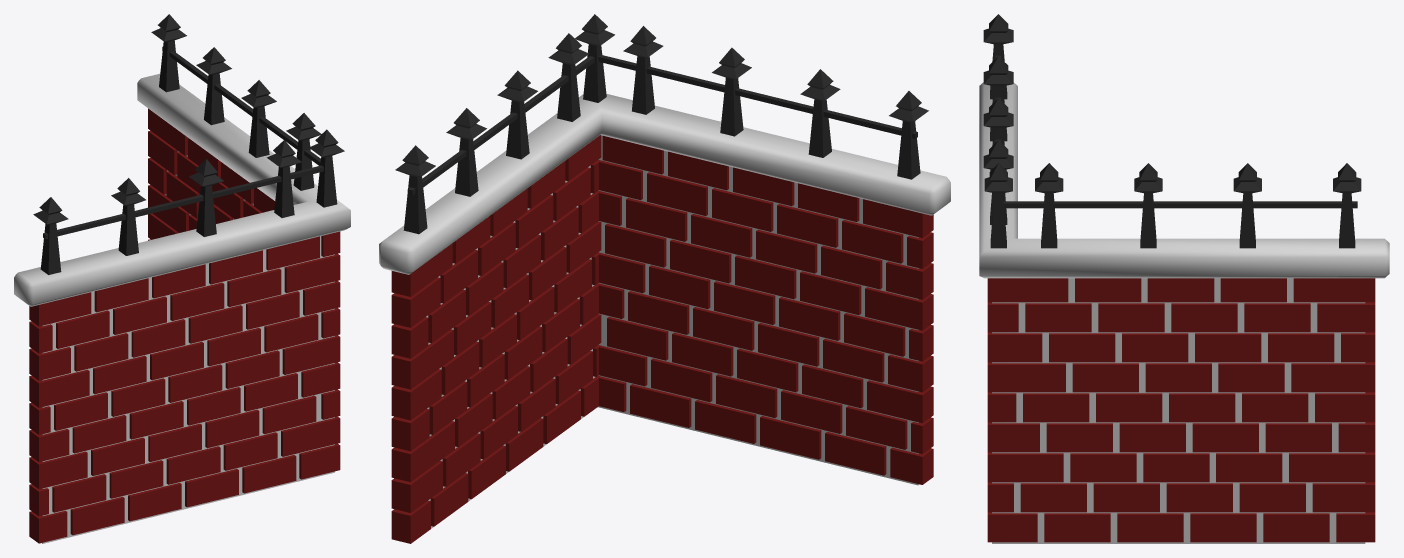
File: wall_corner.fbx
3 views of the same model, side by side, from view 1: azimuth 30°, elevation 25°; view 2: azimuth 150°, elevation 25°; view 3: azimuth 270°, elevation 25° (orthographic). The views are drawn at different scales.
Parts seen in each view (by area): view 1: Cube.004; view 2: Cube.004; view 3: Cube.004.
Part boxes in pixels (x1,y1,x2,y2): Cube.004: [14, 14, 350, 543]; Cube.004: [379, 14, 950, 543]; Cube.004: [979, 14, 1389, 543].
Size of the model in its own units: 162 by 165 by 162.
